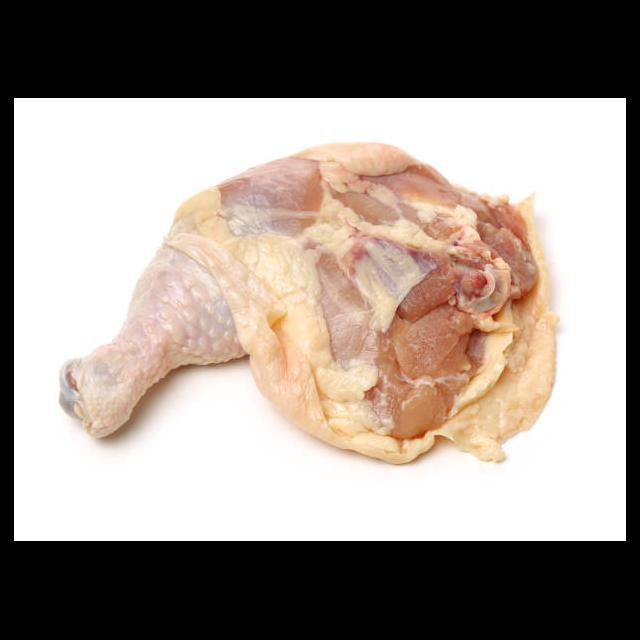chicken: (56, 142, 560, 468)
